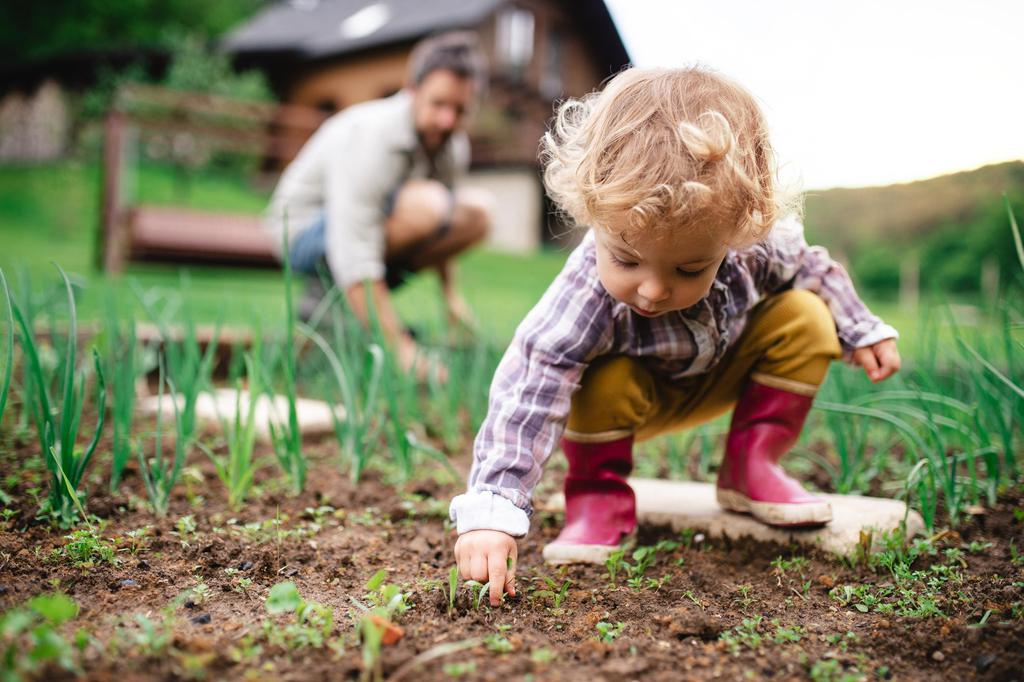child: (443, 56, 910, 591)
